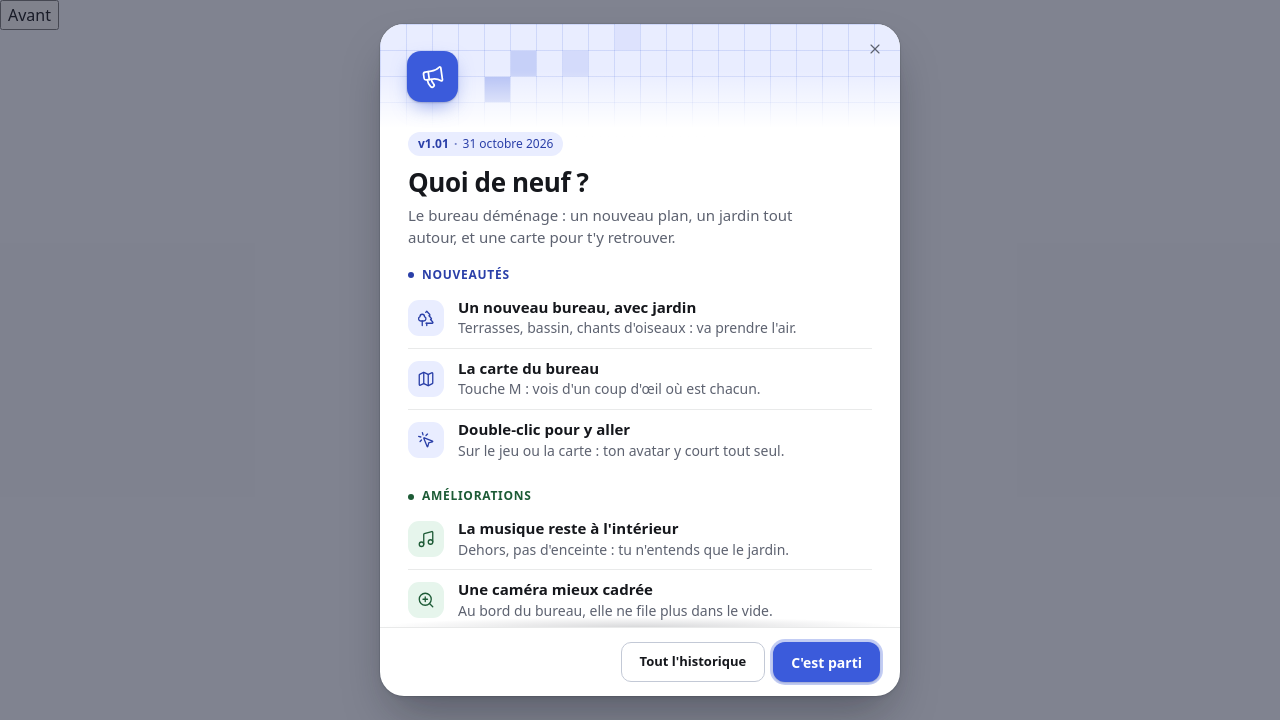
la fenêtre « Quoi de neuf ? » à l'entrée › « C'est parti » la ferme, l'enregistre comme vue, rend le focus, et elle ne revient pas
Expected: the dialog "Quoi de neuf ?" is shown, [380,24,900,696]
What coordinates should you click on to do the following:
click the button "C'est parti"
I would click on:
 (827, 662)
Its box is [773,642,880,682].
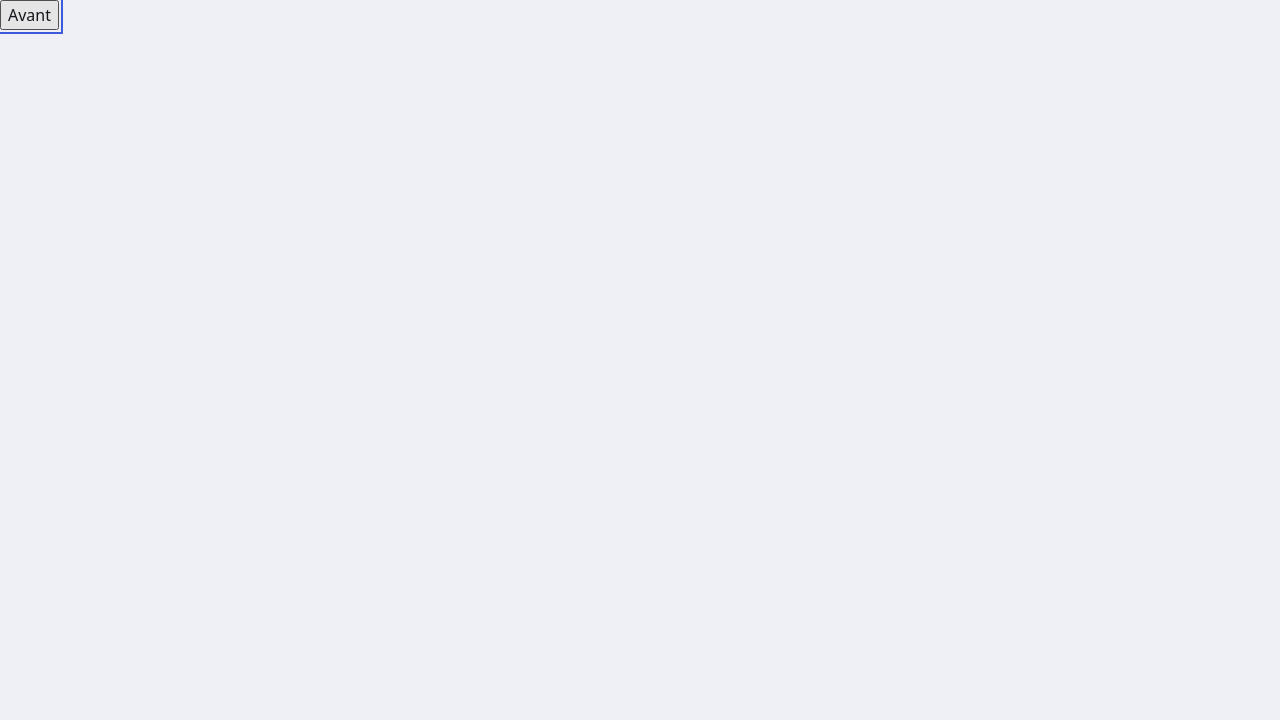
Result: the dialog is gone
